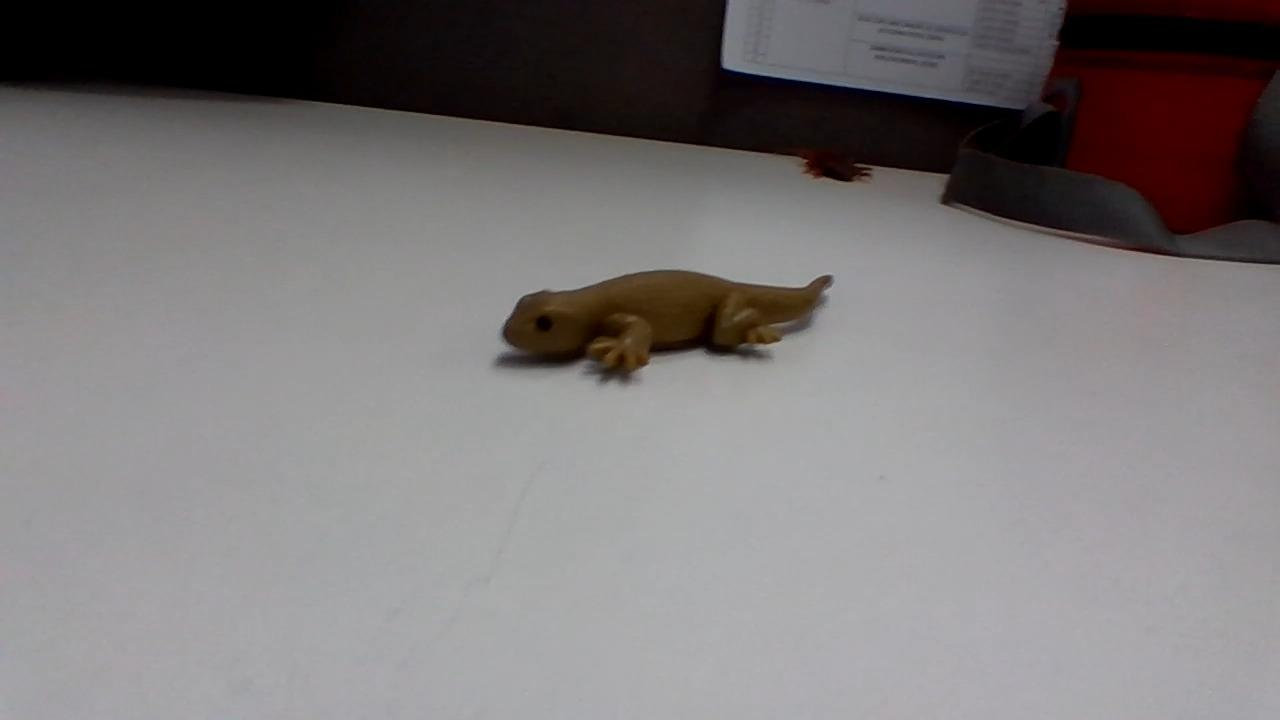lizard: (490, 265, 833, 383)
